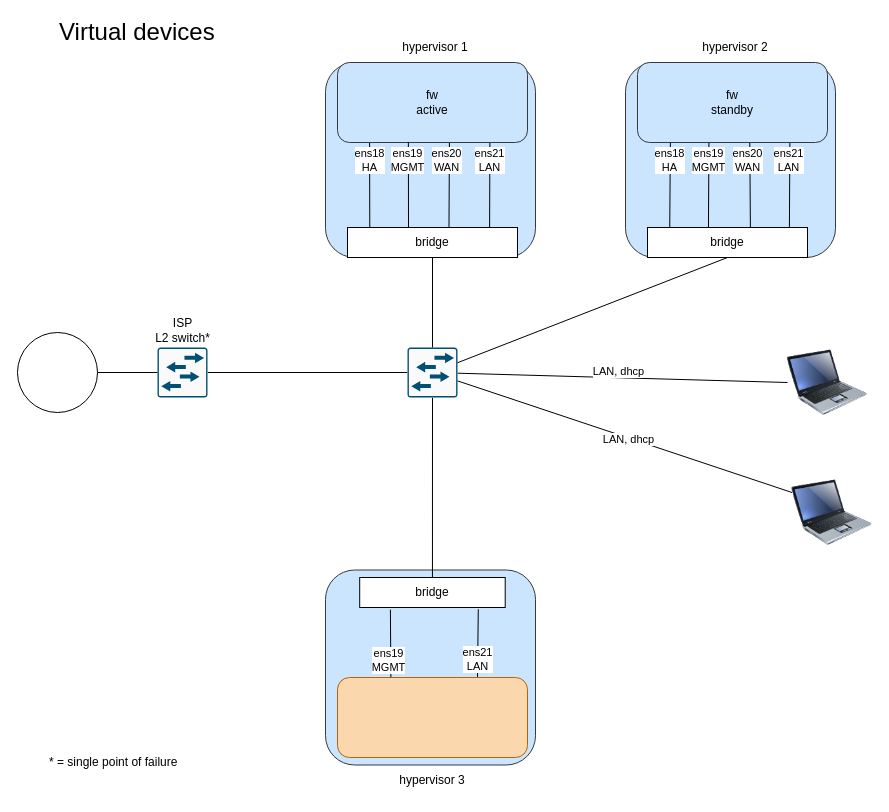
The diagram is 889 pixels wide and 812 high, and some of its shapes have lost their labels. Here are the shapes that lost their labels. From the top down, the centre of each, then its label:
At point 57,372: "Internet".
At point 432,372: "L2 switch*".
At point 432,717: "portitor webgui witness".
